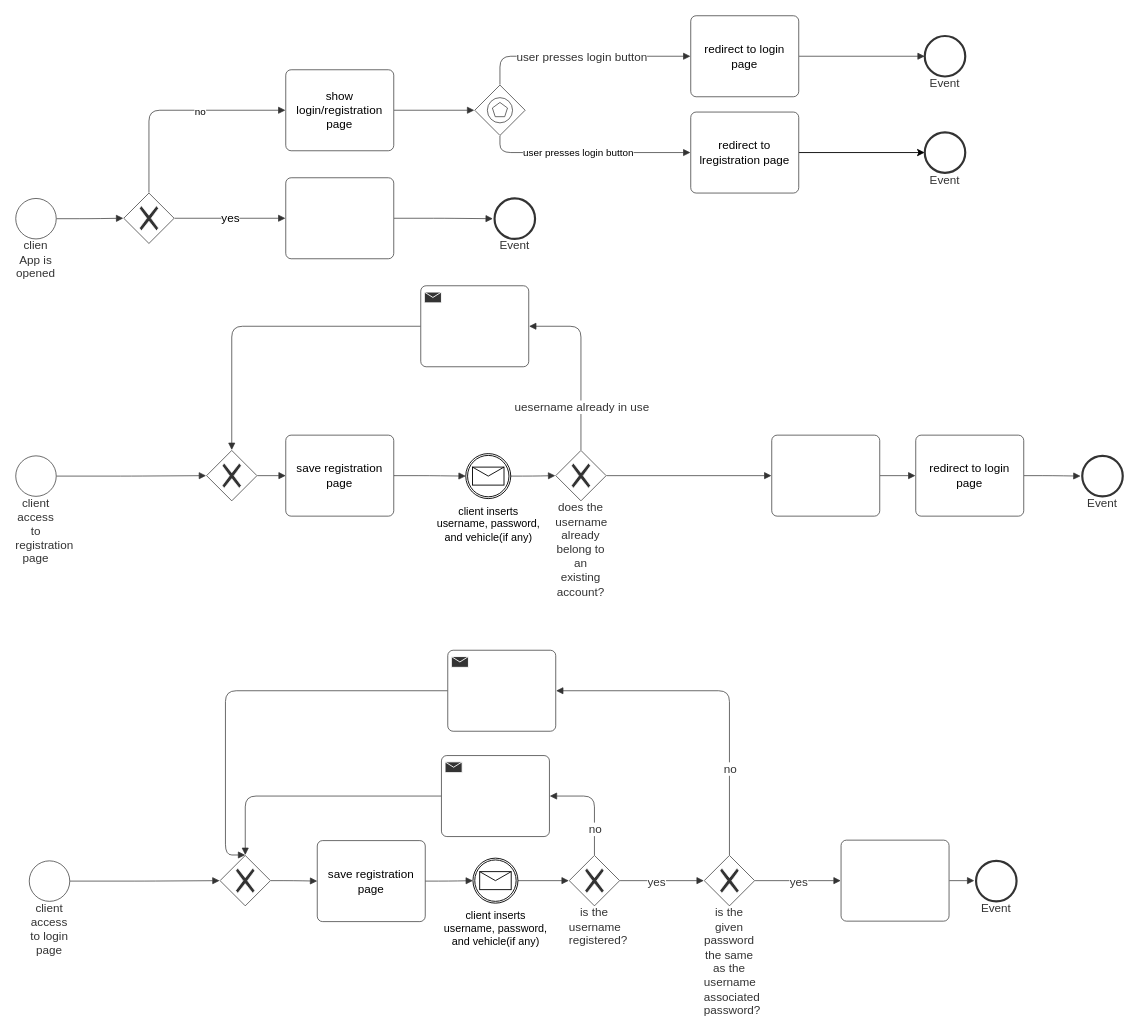
This 1139x1034 diagram has some shape labels left out. The shapes that lost their labels are listed below. From the top down, each one's centre as x and y in pixels, then its label:
the point at 148,217: are there any login info stored in the local app?
the point at 339,218: show main page
the point at 474,326: error message: username already in use
the point at 825,475: save new account info
the point at 501,690: error message: wrong password
the point at 495,795: error message: invalid username
the point at 894,880: redirect to main page
